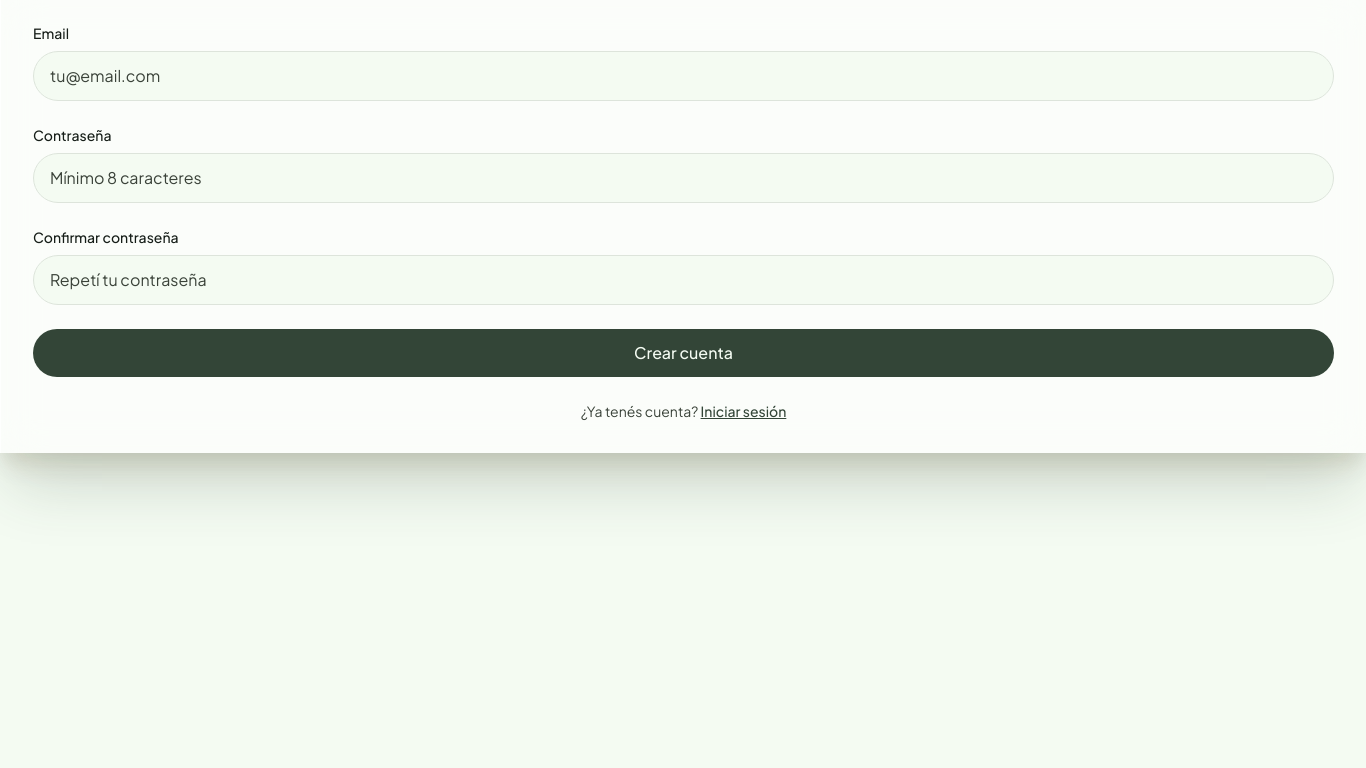
Scenario: RegisterForm component › shows error when fields are empty on submit
The width and height of the screenshot is (1366, 768).
Click the button "Crear cuenta" at [684, 353], box x1=33 y1=329 x2=1334 y2=377
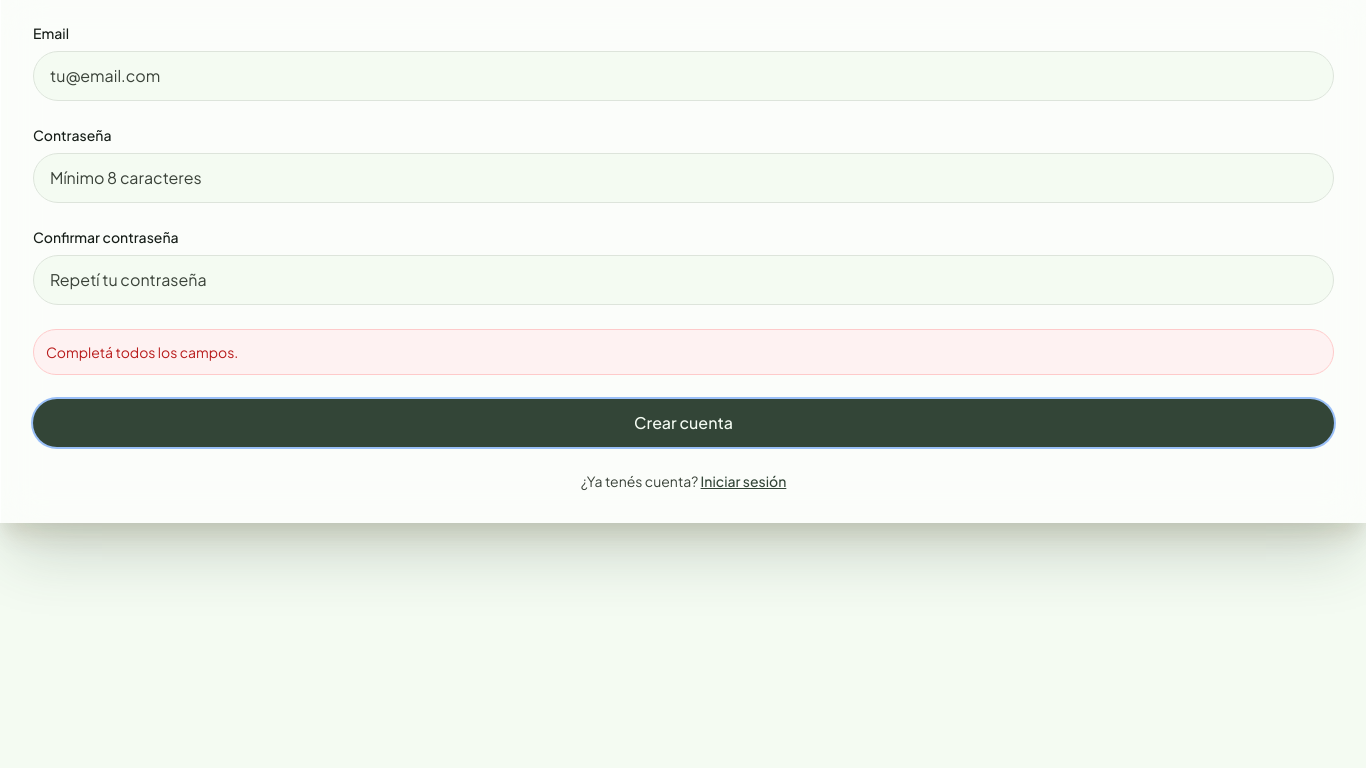
Expected: the text "Completá todos los campos." is shown, x1=46 y1=343 x2=238 y2=361
